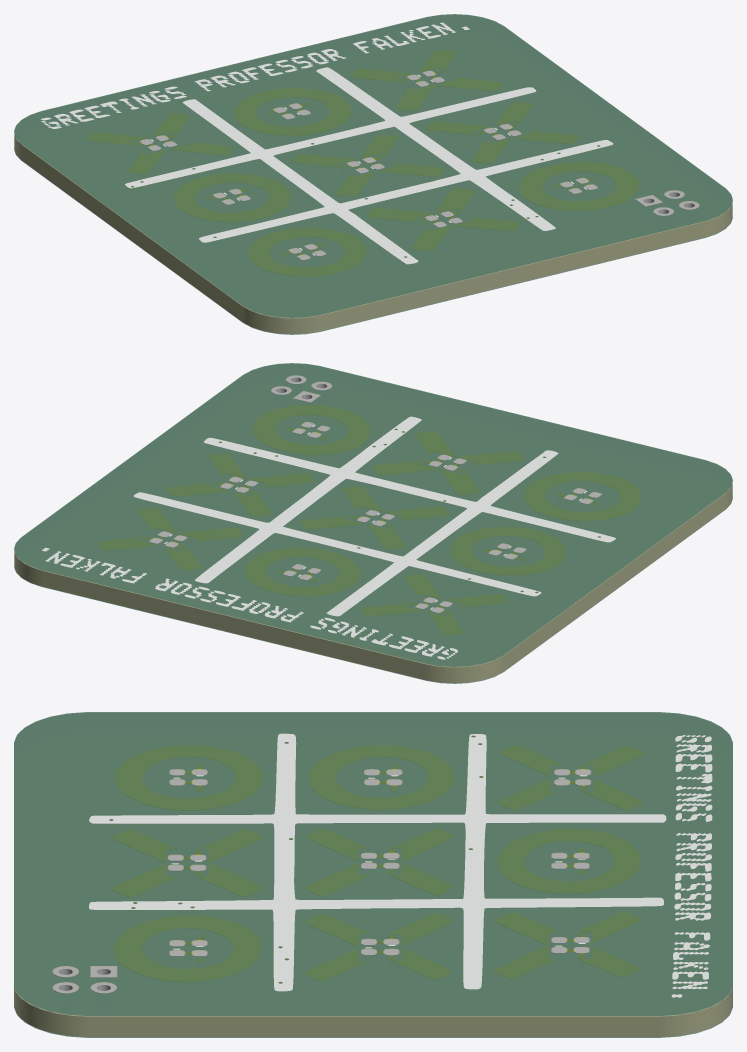
File: wargames-sao.glb
3 renders of one model, top to bottom at view 1: azimuth 30°, elevation 25°; view 2: azimuth 150°, elevation 25°; view 3: azimuth 270°, elevation 25°, orthographic. The views are drawn at different scales.
Parts seen in each view (by area): view 1: =>[0:1:1:7], =>[0:1:1:9], =>[0:1:1:2], =>[0:1:1:5]; view 2: =>[0:1:1:7], =>[0:1:1:9], =>[0:1:1:2], =>[0:1:1:5]; view 3: =>[0:1:1:7], =>[0:1:1:9], =>[0:1:1:2], =>[0:1:1:5].
Boxes of the visible parts, x1=… form: =>[0:1:1:7]: x1=14, y1=14, x2=732, y2=334; =>[0:1:1:9]: x1=14, y1=15, x2=732, y2=334; =>[0:1:1:2]: x1=87, y1=50, x2=698, y2=276; =>[0:1:1:5]: x1=41, y1=22, x2=613, y2=264; =>[0:1:1:7]: x1=14, y1=363, x2=732, y2=683; =>[0:1:1:9]: x1=14, y1=364, x2=732, y2=683; =>[0:1:1:2]: x1=98, y1=375, x2=640, y2=634; =>[0:1:1:5]: x1=42, y1=416, x2=615, y2=659; =>[0:1:1:7]: x1=14, y1=712, x2=732, y2=1037; =>[0:1:1:9]: x1=14, y1=713, x2=732, y2=1037; =>[0:1:1:2]: x1=53, y1=736, x2=643, y2=993; =>[0:1:1:5]: x1=89, y1=733, x2=712, y2=997.
Bounding box in the file's own units: 0.048 × 0.00166 × 0.048.
Materials: 4 (4 with a texture image).
